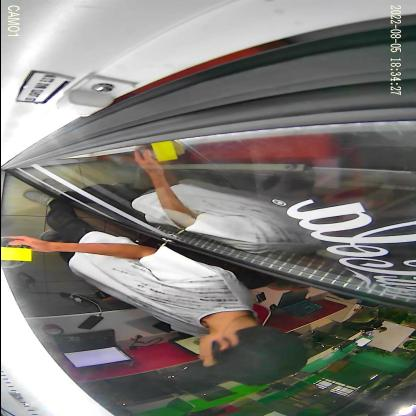yellow: (0, 238, 33, 268)
